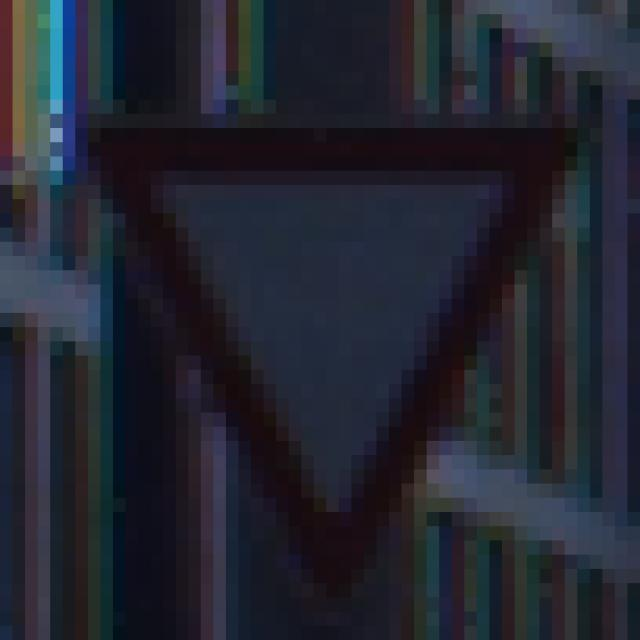Give Way: (64, 72, 578, 570)
